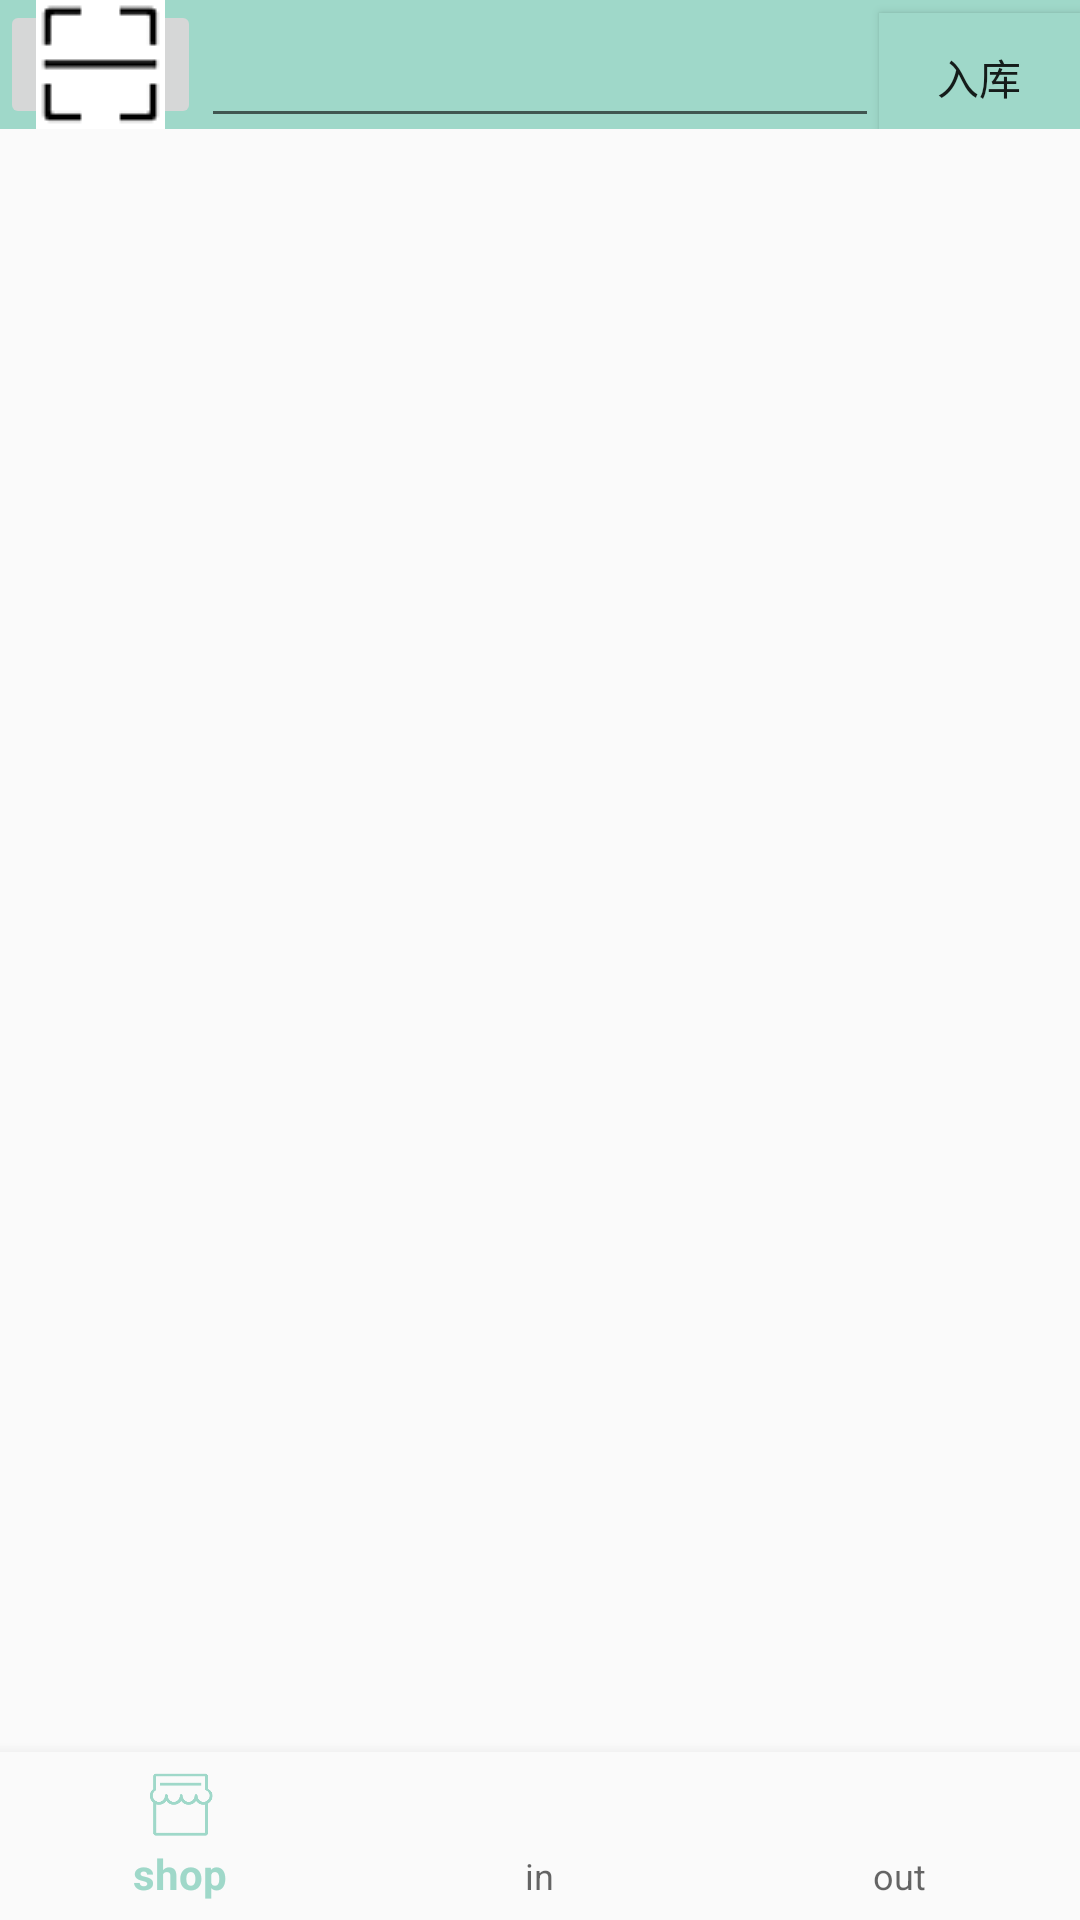

Screen size 1080x1920. Icon name, then its center in pixels as (x=x, y=y):
scan: (x=79, y=64)
